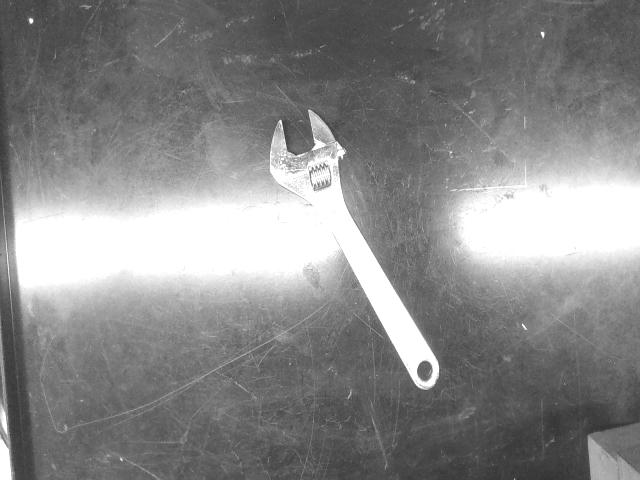Adjustable spanner: (270, 110, 439, 390)
